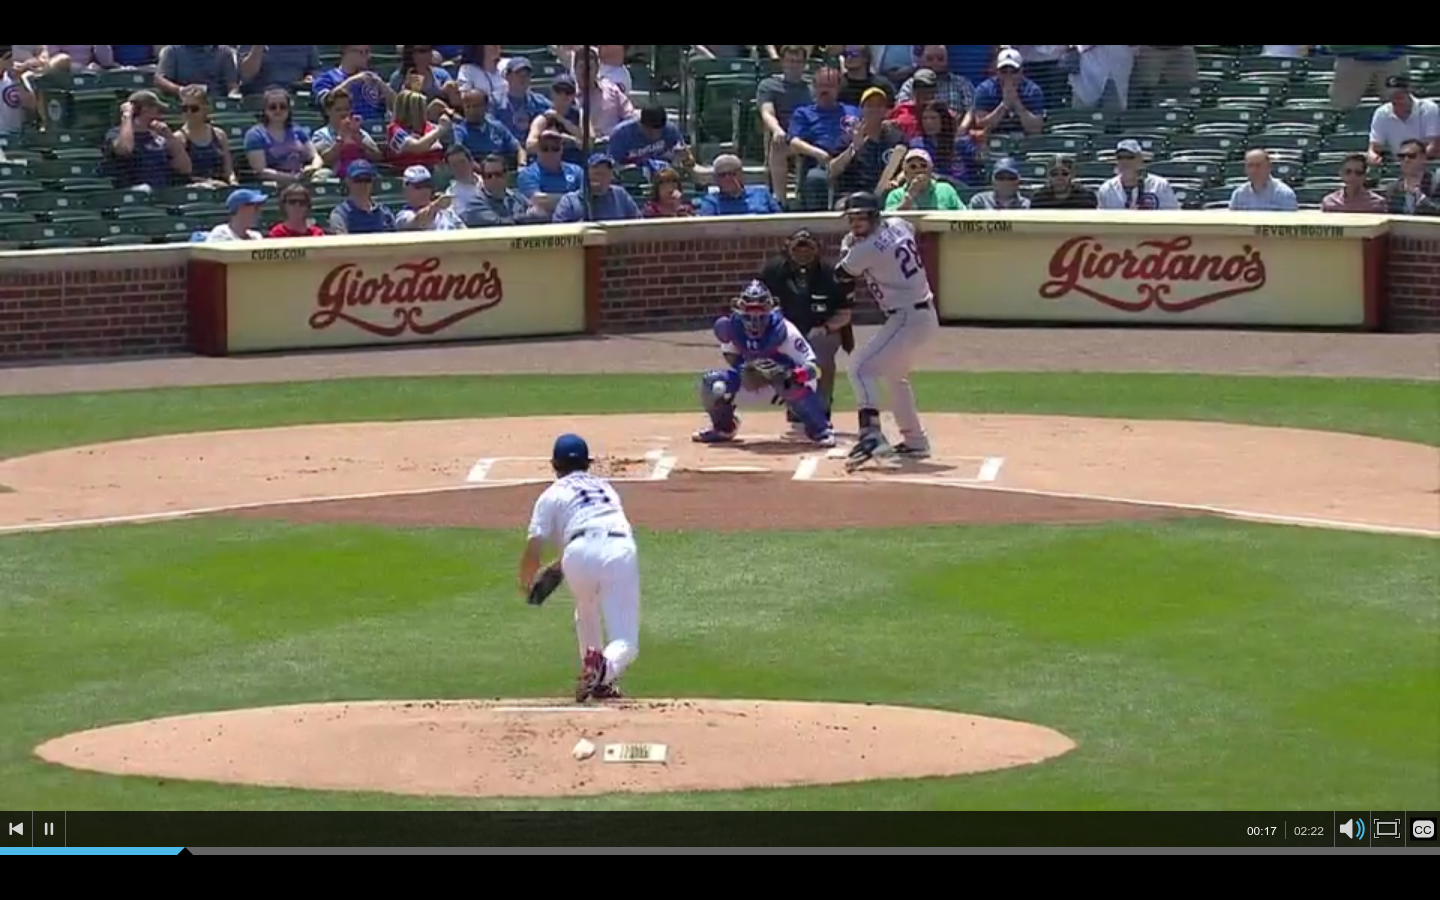baseball: (710, 377, 732, 402)
baseball bat: (872, 145, 905, 196)
baseball player: (507, 428, 653, 706), (838, 191, 947, 469), (696, 282, 836, 454)
referee: (753, 229, 855, 445)
